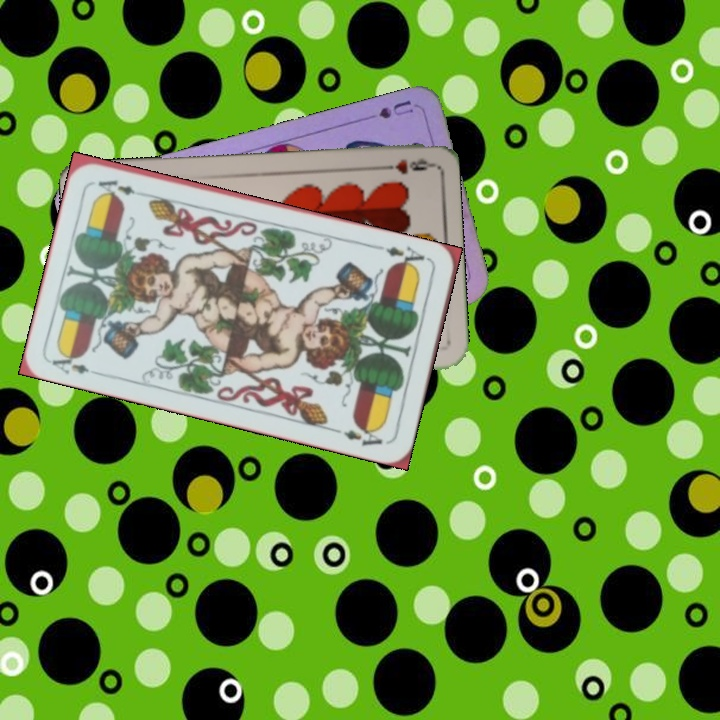EA: (374, 241, 432, 273), (48, 347, 105, 377)
H9: (374, 154, 433, 177)
SU: (374, 96, 416, 122)
